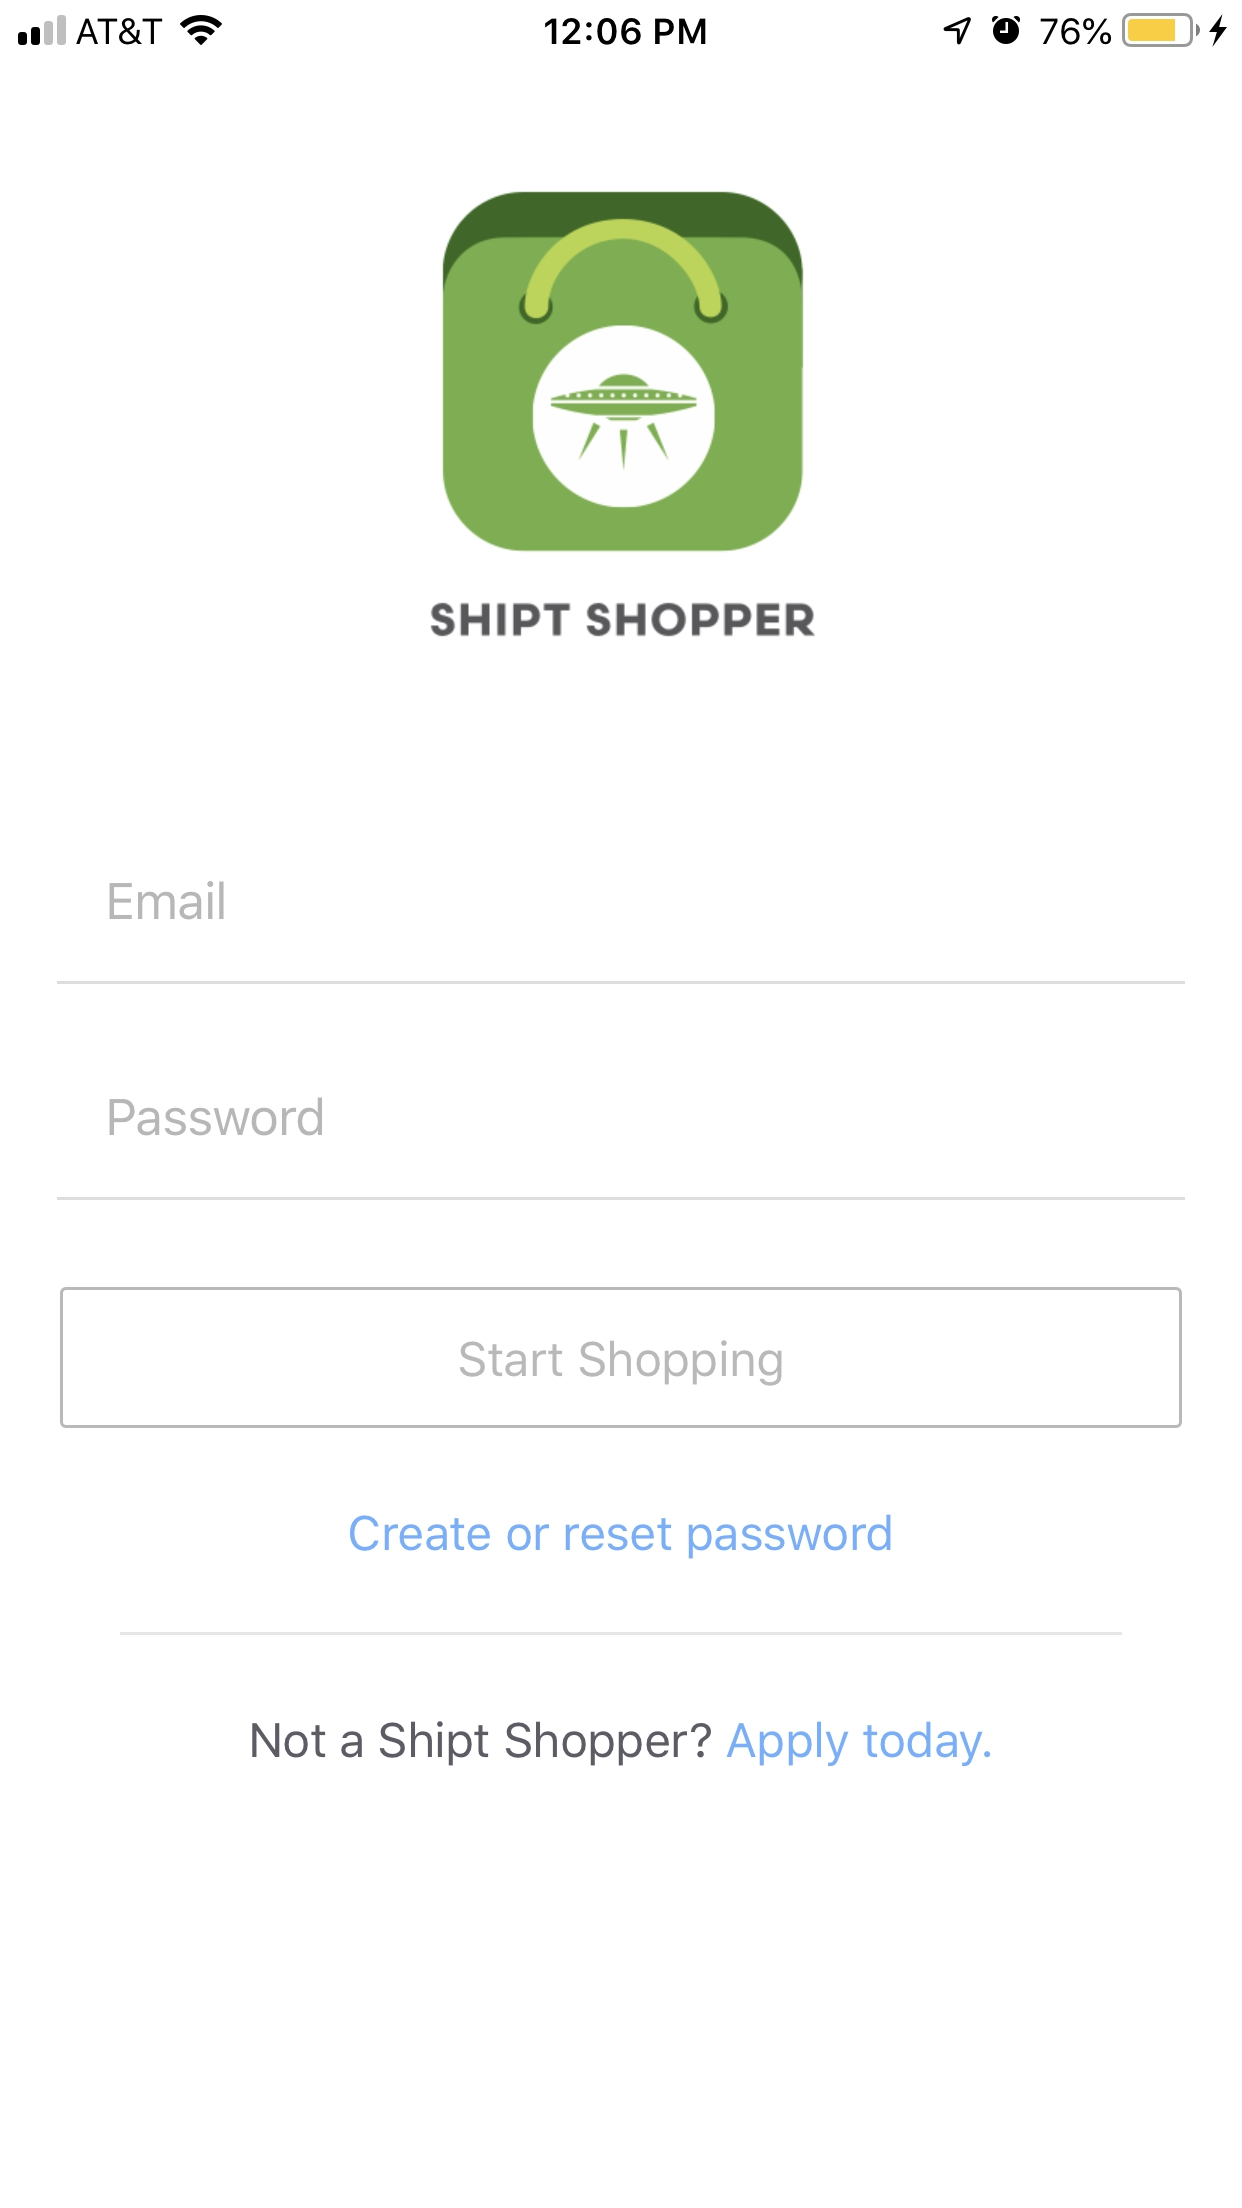EditText: (58, 1096, 1186, 1203), (58, 881, 1186, 986)
Image: (441, 193, 805, 554)
Text: (252, 1720, 990, 1767), (350, 1513, 892, 1560), (431, 602, 816, 638), (109, 1096, 325, 1137), (109, 881, 226, 921)
TextButton: (61, 1286, 1183, 1429)
UpperTaskBar: (2, 2, 1242, 49)
